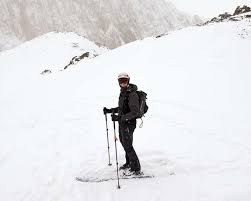skis: (75, 169, 160, 181)
